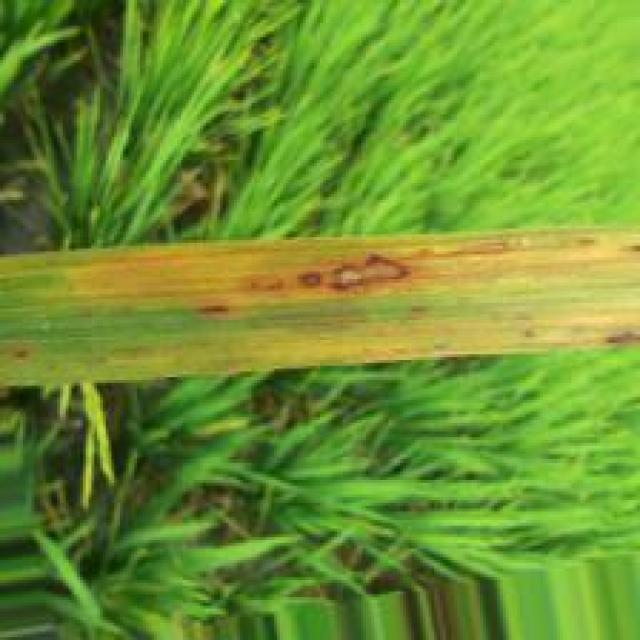Leaf_Blast: (65, 230, 640, 322)
